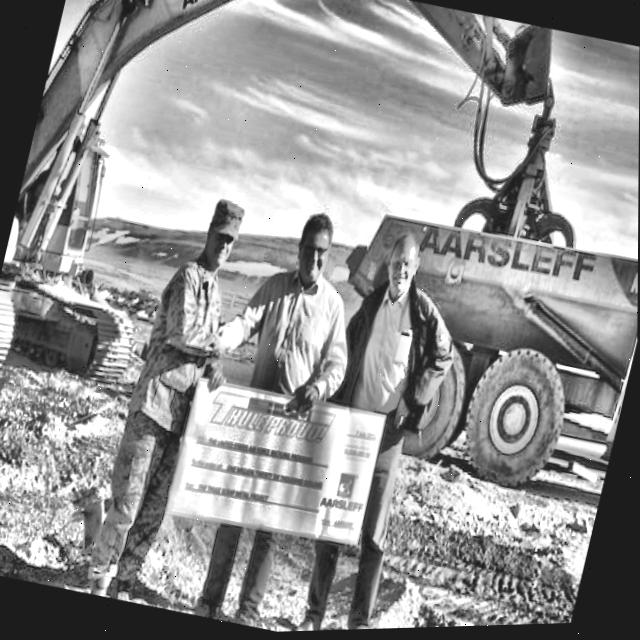dump_truck: (312, 158, 639, 559)
excavator: (0, 0, 604, 492)
